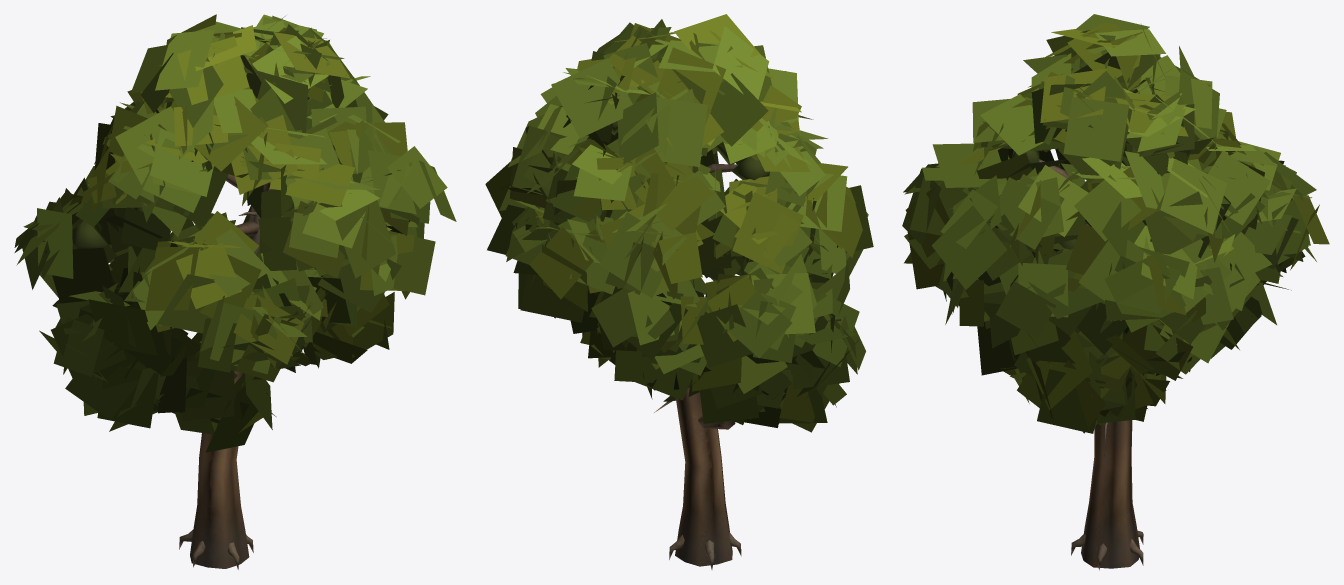
Rendered from tree-05.glb.
3 renders of one model, left to right at view 1: azimuth 30°, elevation 25°; view 2: azimuth 150°, elevation 25°; view 3: azimuth 270°, elevation 25°, orthographic. The views are drawn at different scales.
Parts seen in each view (by area): view 1: tree-05; view 2: tree-05; view 3: tree-05.
Part boxes in pixels (x1=…): tree-05: x1=14, y1=14, x2=456, y2=569; tree-05: x1=485, y1=14, x2=873, y2=569; tree-05: x1=902, y1=14, x2=1329, y2=570.
Size of the model in its own units: 4.01 by 5.69 by 4.1.
3 materials, 1 textured.
